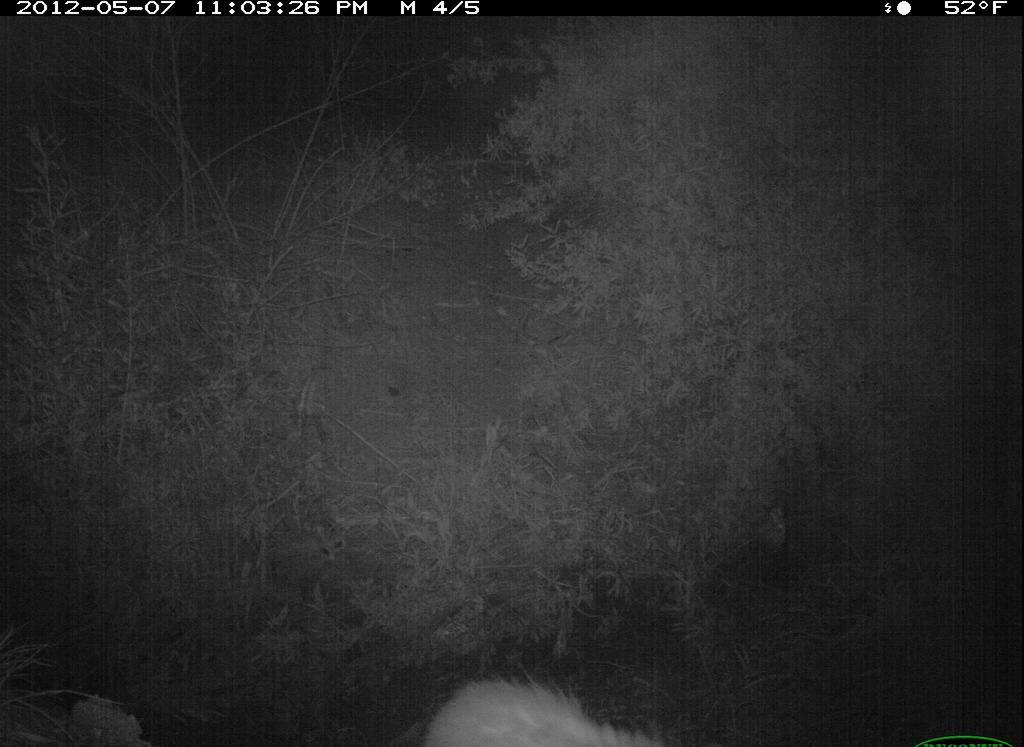opossum: (392, 653, 751, 747)
